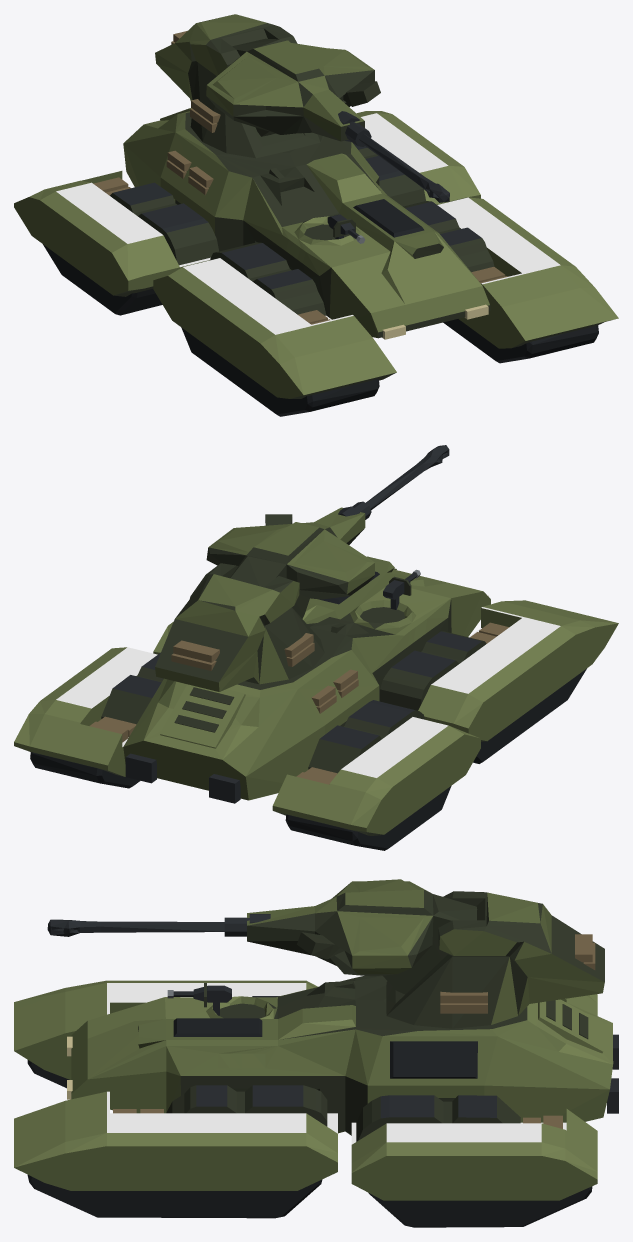
Rendered from scorpion.glb.
3 views of the same model, one above another, from view 1: azimuth 30°, elevation 25°; view 2: azimuth 150°, elevation 25°; view 3: azimuth 270°, elevation 25° (orthographic). The views are drawn at different scales.
Size of the model in its own units: 0.39 by 0.2404 by 0.5384.
